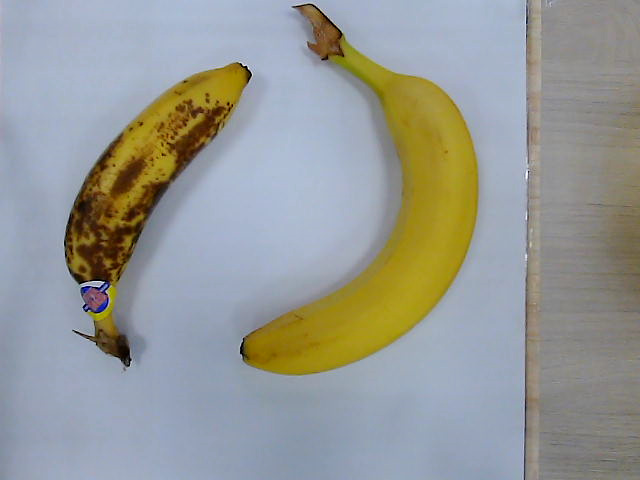fresh_banana: (237, 6, 481, 375)
rotten_banana: (65, 63, 254, 374)
